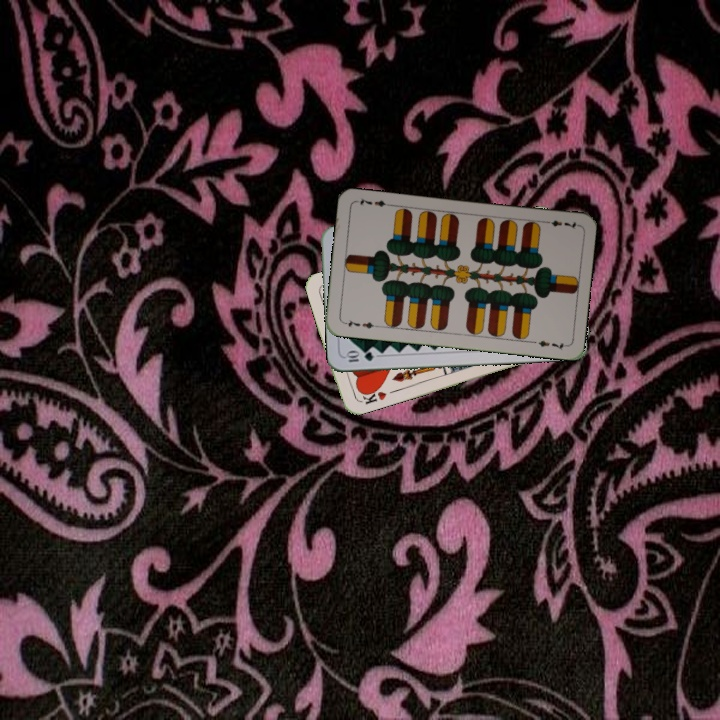E7: (340, 315, 380, 331), (540, 216, 580, 232)
G10: (342, 348, 376, 365)
HK: (354, 383, 389, 407)
